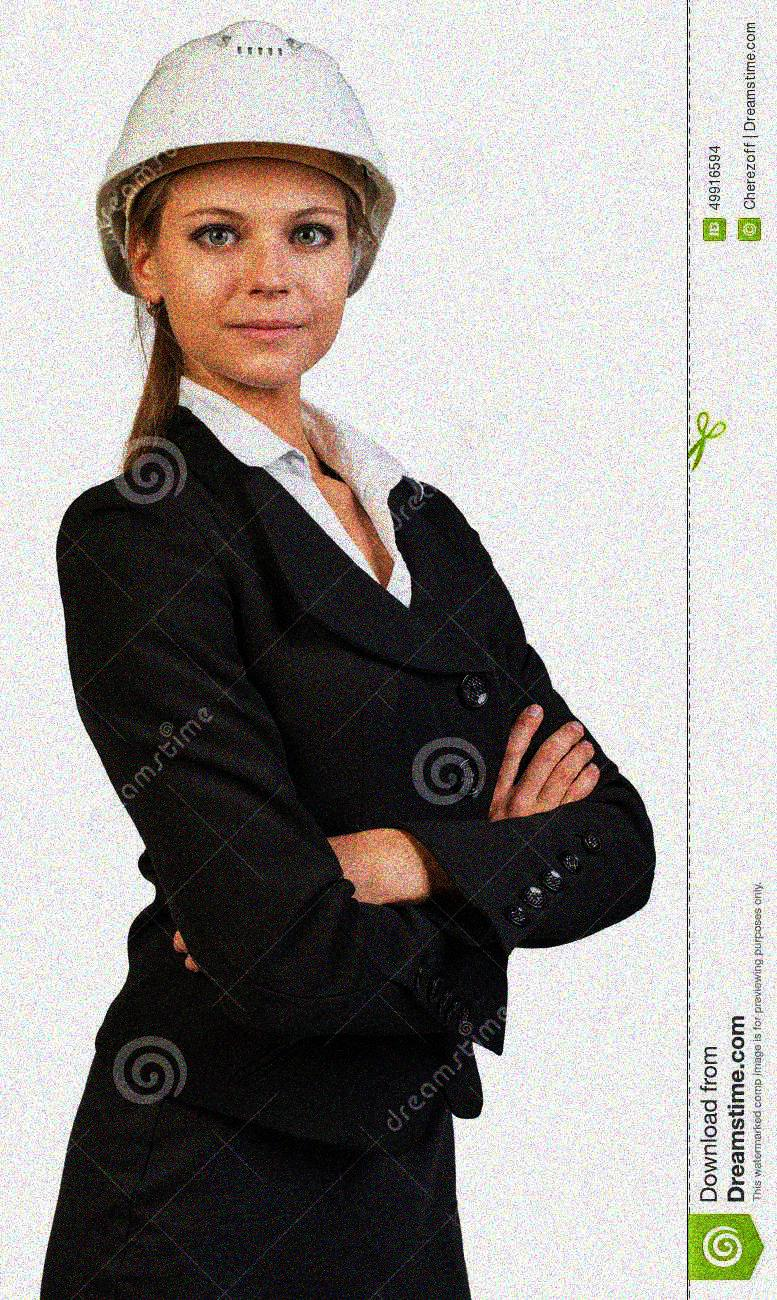helmet: (86, 20, 404, 395)
